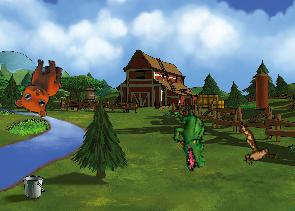bear: (13, 54, 64, 118)
crocodile: (162, 104, 221, 173)
eagle: (225, 121, 283, 174)
